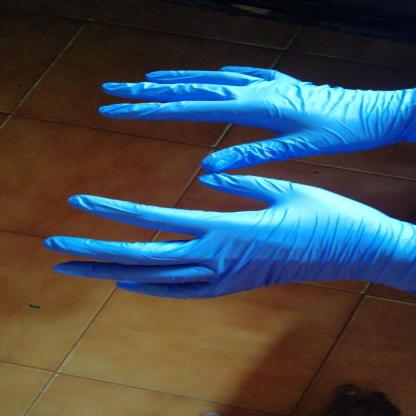gloved_hand: (42, 172, 415, 303), (89, 62, 415, 174)
